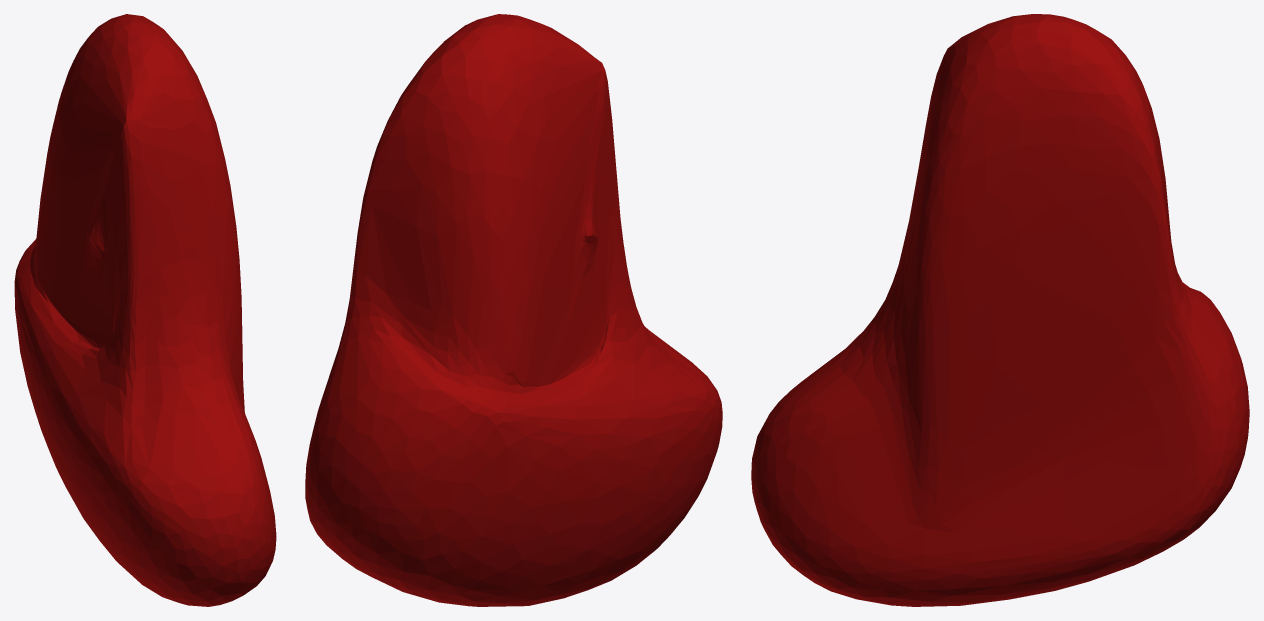
The picture shows the model from 3 angles, left to right: view 1: azimuth 30°, elevation 25°; view 2: azimuth 150°, elevation 25°; view 3: azimuth 270°, elevation 25°; orthographic projection. The views are drawn at different scales.
Visible parts, largest first — view 1: 164_Cube.685; view 2: 164_Cube.685; view 3: 164_Cube.685.
Boxes of the visible parts, x1,y1,x2,y2 form: 164_Cube.685: (14, 14, 276, 606); 164_Cube.685: (305, 14, 722, 606); 164_Cube.685: (751, 14, 1249, 606).
Bounding box in the file's own units: 5.35 × 13.57 × 10.51.
